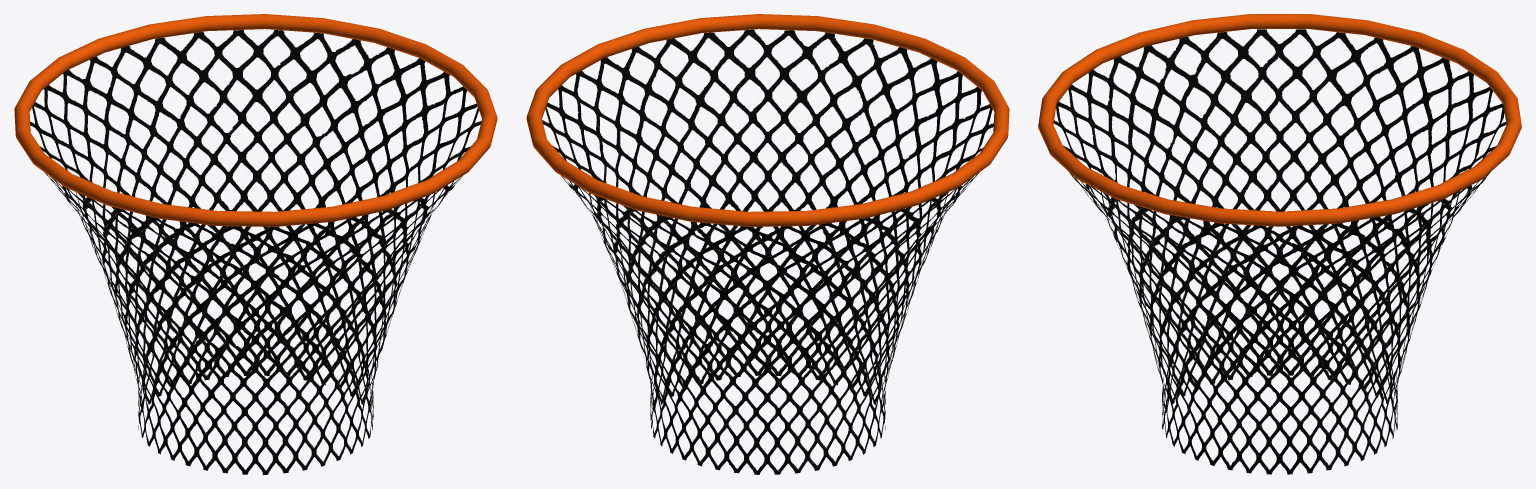
Rendered from hoop.fbx.
3 renders of one model, left to right at view 1: azimuth 30°, elevation 25°; view 2: azimuth 150°, elevation 25°; view 3: azimuth 270°, elevation 25°, orthographic.
Visible parts, largest first — view 1: pCylinder1, pTorus1; view 2: pCylinder1, pTorus1; view 3: pCylinder1, pTorus1.
Part boxes in pixels (box(x1,y1,x2,y2)): pCylinder1: box(30, 30, 481, 474); pTorus1: box(14, 14, 497, 226); pCylinder1: box(542, 29, 993, 474); pTorus1: box(526, 14, 1009, 226); pCylinder1: box(1053, 29, 1506, 474); pTorus1: box(1038, 14, 1521, 226).
Size of the model in its own units: 5.59 by 3.98 by 5.6.
2 materials, 1 textured.
